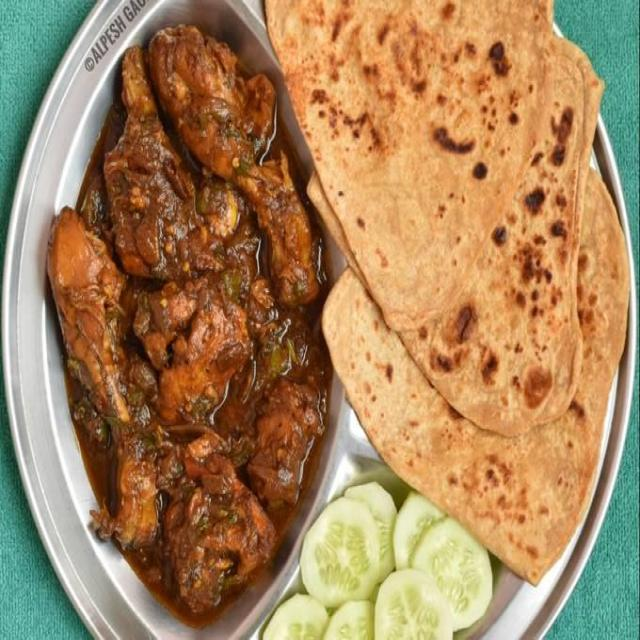chicken: (56, 65, 298, 600)
roti: (307, 0, 640, 519)
